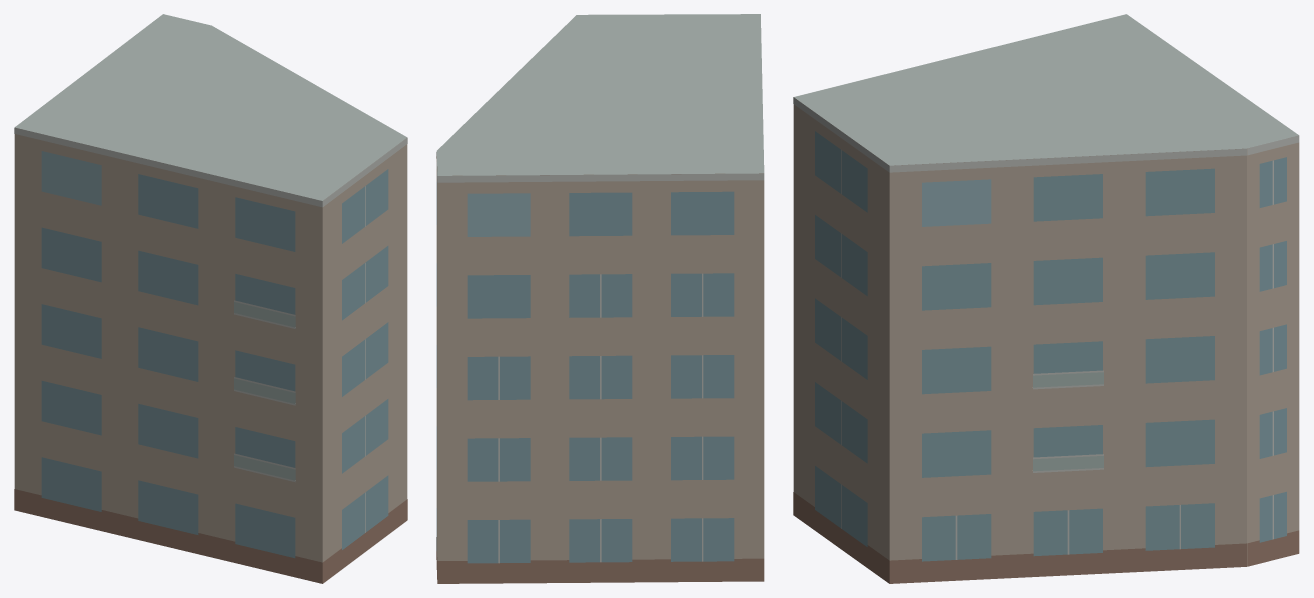
File: survey-upis-32528624.glb
The picture shows the model from 3 angles, left to right: view 1: azimuth 30°, elevation 25°; view 2: azimuth 150°, elevation 25°; view 3: azimuth 270°, elevation 25°; orthographic projection. The views are drawn at different scales.
Visible parts, largest first — view 1: survey-upis-32528624.tmp; view 2: survey-upis-32528624.tmp; view 3: survey-upis-32528624.tmp.
Part boxes in pixels (left/top/right/bottom): survey-upis-32528624.tmp: left=14, top=14, right=407, bottom=583; survey-upis-32528624.tmp: left=436, top=14, right=764, bottom=583; survey-upis-32528624.tmp: left=793, top=14, right=1299, bottom=583.
Bounding box in the file's own units: 11.4 × 14.65 × 16.07.
